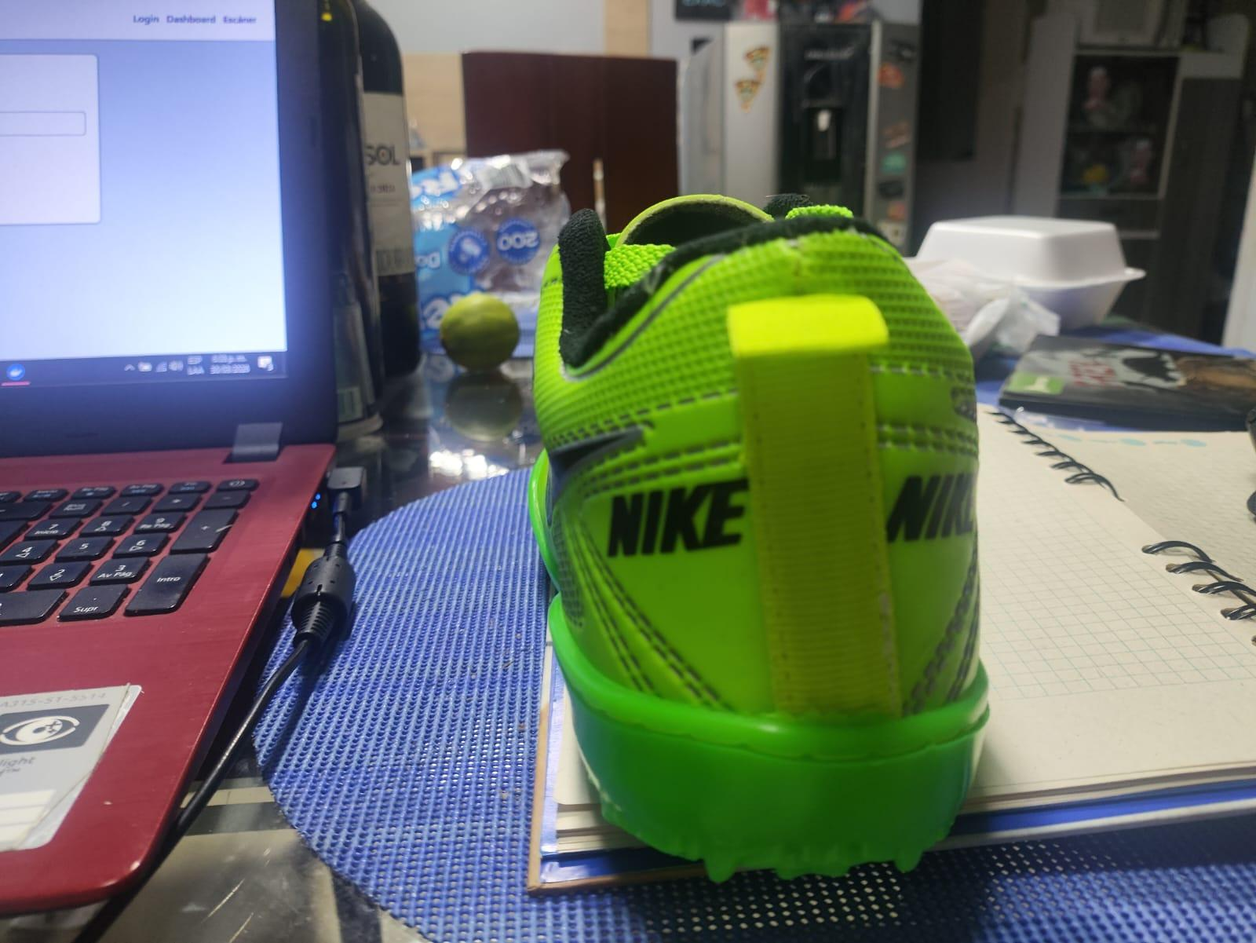shoe: (528, 195, 989, 879)
texto: (600, 475, 750, 559), (881, 471, 974, 555)
